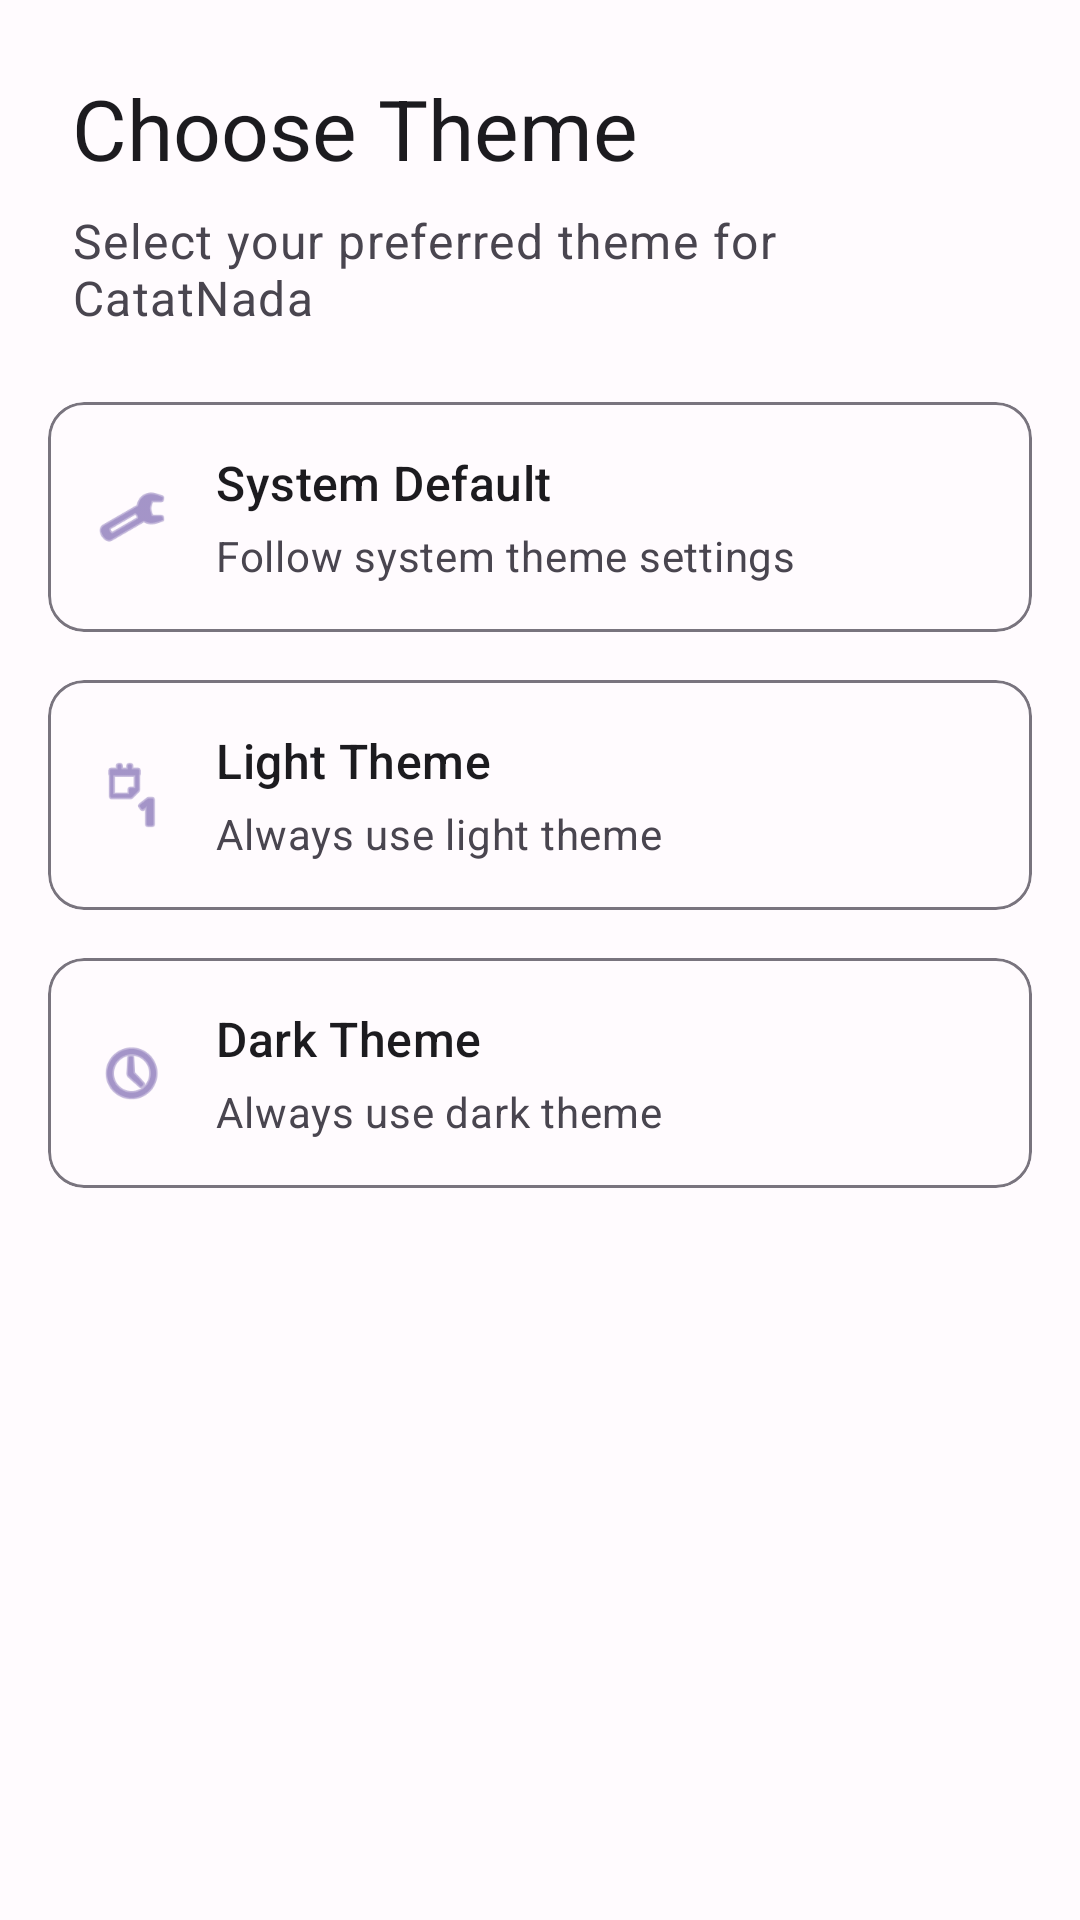

Icon bounding boxes for this 1080px x 1920px phone screenshot, format (x1, y1, x2, y2):
day: (108, 763, 155, 827)
manage: (100, 492, 164, 542)
recent history: (106, 1047, 158, 1099)
